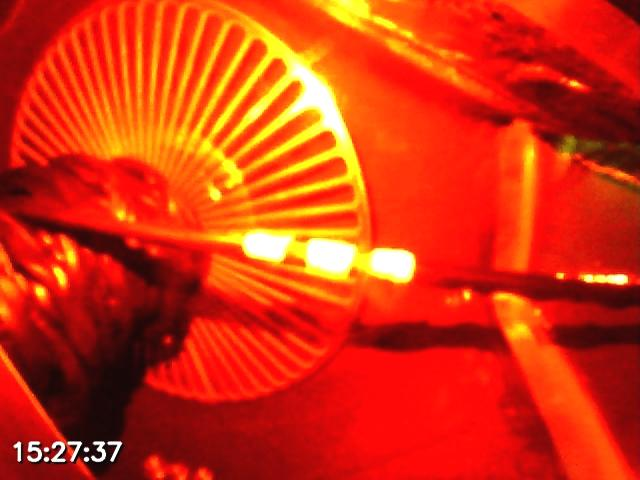white-dots: (240, 228, 416, 284)
